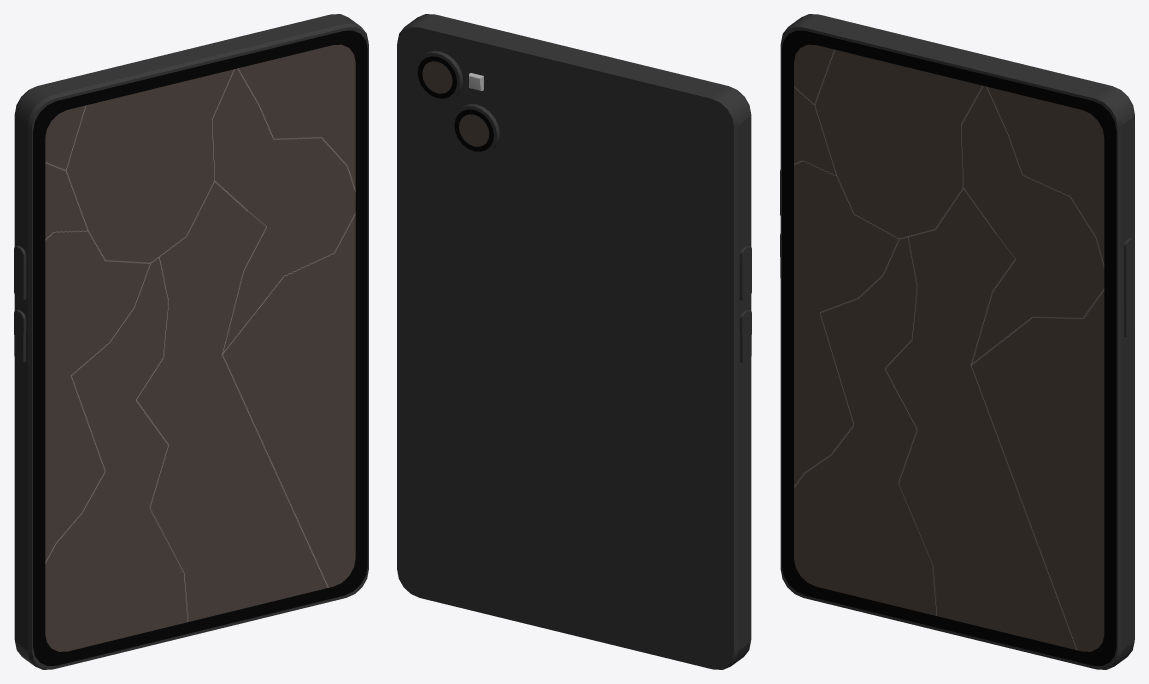
Rendered from Phone new.fbx.
3 renders of one model, left to right at view 1: azimuth 30°, elevation 25°; view 2: azimuth 150°, elevation 25°; view 3: azimuth 330°, elevation 25°, orthographic.
Parts seen in each view (by area): view 1: polySurface4; view 2: polySurface4, polySurface6; view 3: polySurface4.
Part boxes in pixels (box(x1,y1,x2,y2)): polySurface4: box(14, 14, 368, 669); polySurface4: box(397, 14, 751, 669); polySurface6: box(414, 51, 499, 155); polySurface4: box(780, 14, 1134, 669).
Bounding box in the file's own units: 0.3463 × 0.5498 × 0.0347.
Materials: 4 (1 with a texture image).
